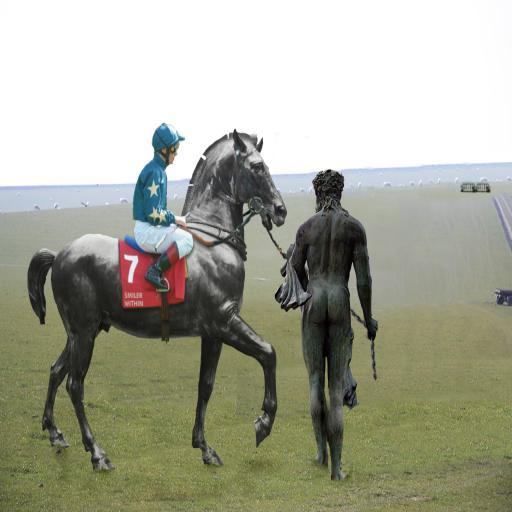Horse: (26, 129, 288, 476)
